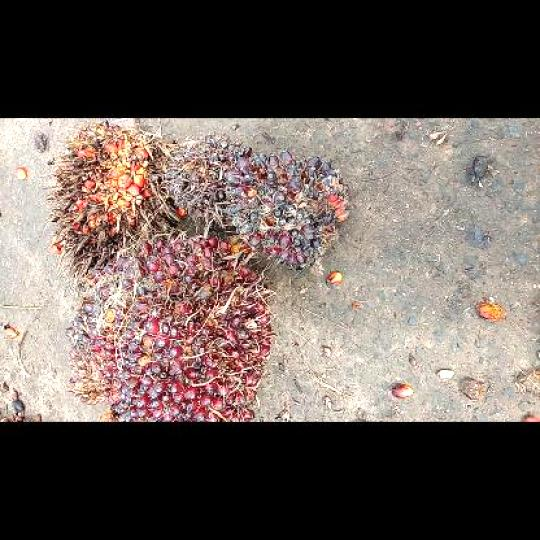masak: (65, 226, 273, 420)
terlalu masak: (43, 118, 159, 293)
